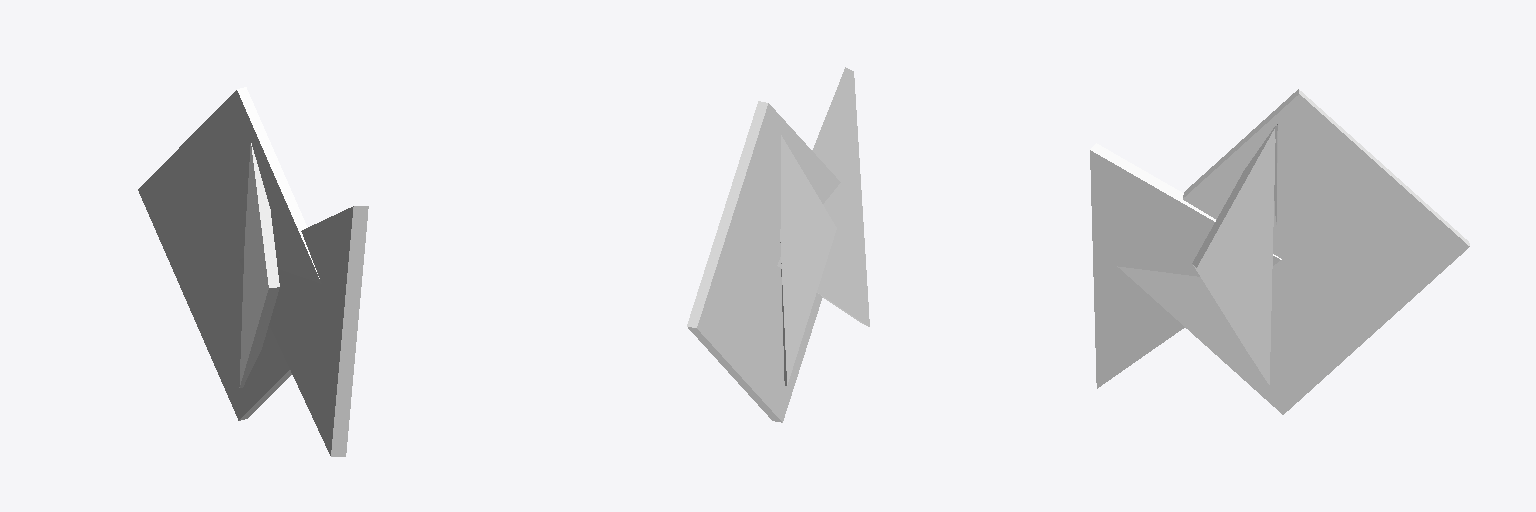
Rendered from OrangeFish.obj.
3 views of the same model, side by side, from view 1: azimuth 30°, elevation 25°; view 2: azimuth 150°, elevation 25°; view 3: azimuth 270°, elevation 25° (orthographic).
Parts seen in each view (by area): view 1: OrangeFish; view 2: OrangeFish; view 3: OrangeFish.
Boxes of the visible parts, x1=… form: OrangeFish: x1=138, y1=87, x2=368, y2=456; OrangeFish: x1=687, y1=67, x2=869, y2=422; OrangeFish: x1=1090, y1=89, x2=1469, y2=414.
Bounding box in the file's own units: 0.2308 × 1.27 × 1.35.